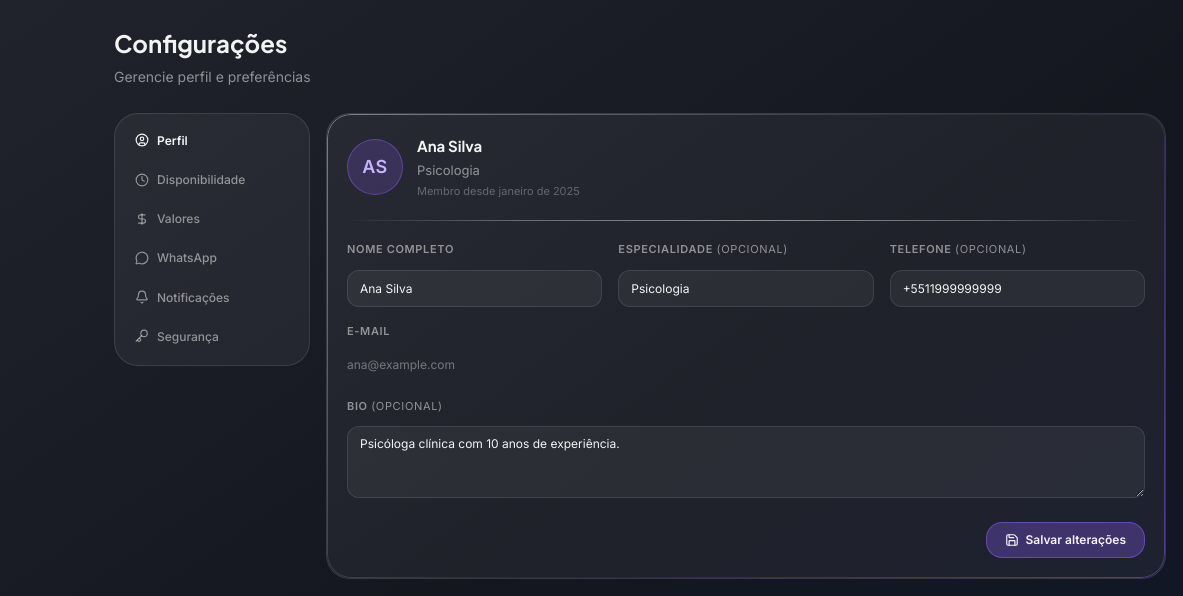
Test: SettingsPage › pré-popula os campos com os dados do profissional do AuthContext
The width and height of the screenshot is (1183, 596).
Expected: the field showing "Ana Silva" is shown, [347, 270, 602, 307]
Expected: the field showing "Psicologia" is shown, [618, 270, 874, 307]
Note: Valores tab fields — navigate first
Click the button "Valores": (212, 219) [123, 200, 301, 237]
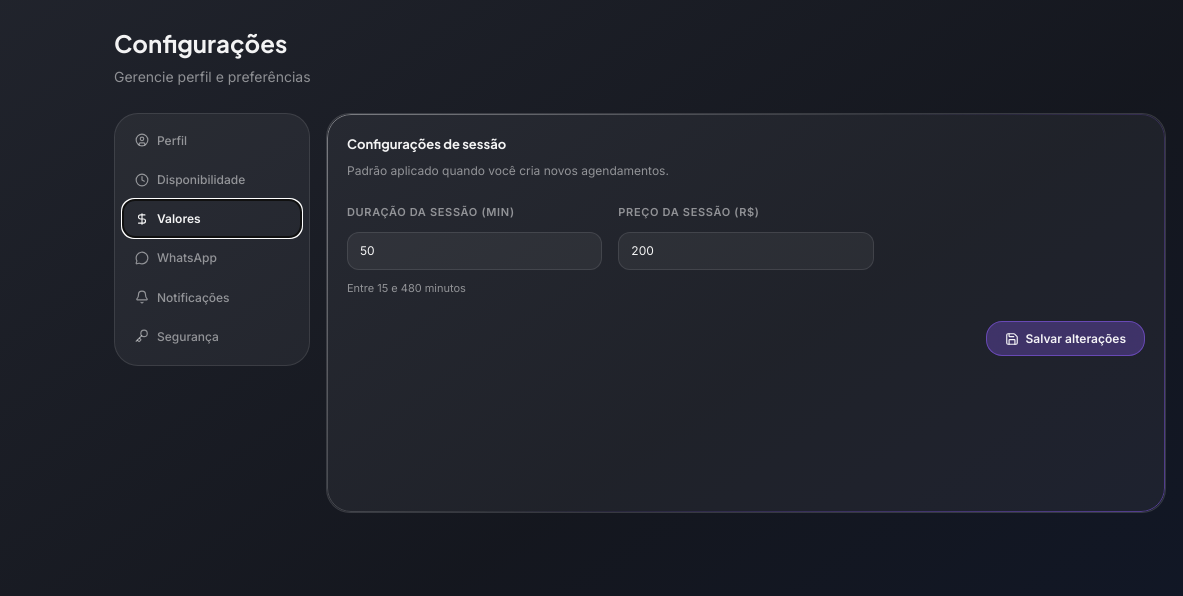
Now the number field showing "50" is shown, box [347, 232, 602, 270]
Now the number field showing "200" is shown, box [618, 232, 874, 270]
